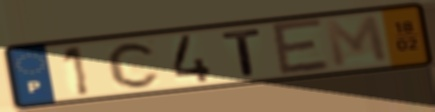1: (60, 44, 92, 97)
4: (171, 32, 213, 84)
C: (105, 40, 163, 90)
E: (268, 17, 333, 78)
M: (322, 13, 393, 70)
T: (219, 27, 265, 78)
